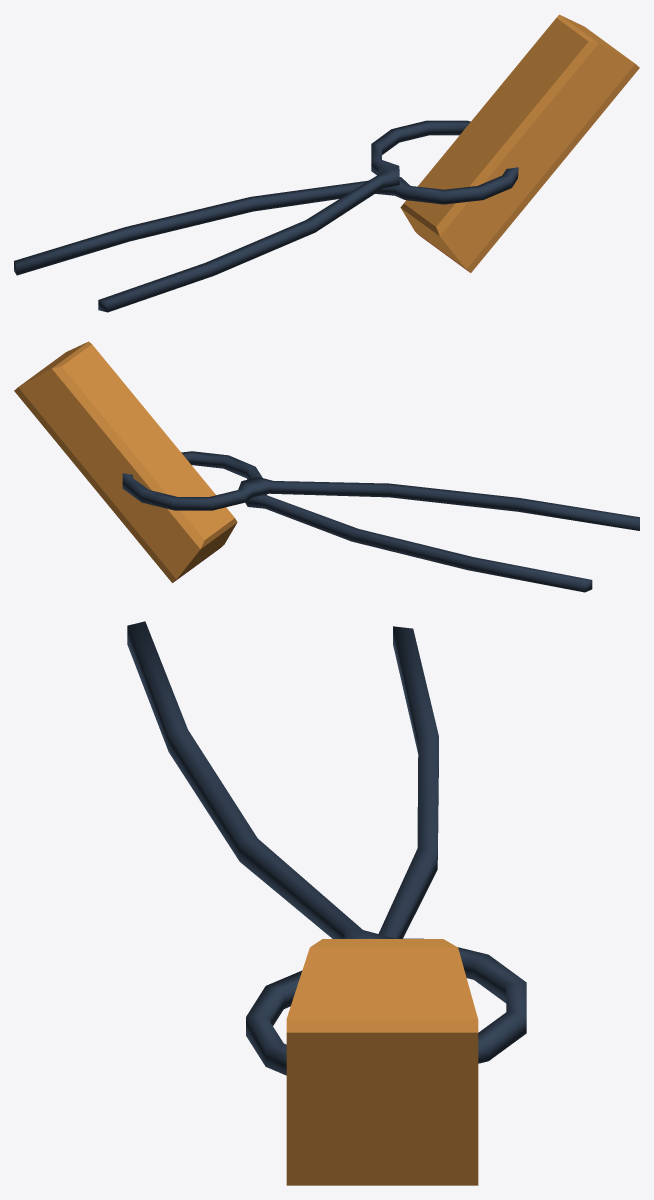
File: hotIronfbx.fbx
3 views of the same model, one above another, from view 1: azimuth 30°, elevation 25°; view 2: azimuth 150°, elevation 25°; view 3: azimuth 270°, elevation 25° (orthographic). The views are drawn at different scales.
Parts seen in each view (by area): view 1: ingot, pliers; view 2: ingot, pliers; view 3: ingot, pliers.
Boxes of the visible parts, left/top/right/bottom form: ingot: left=400, top=14, right=639, bottom=272; pliers: left=14, top=120, right=518, bottom=312; ingot: left=14, top=341, right=237, bottom=582; pliers: left=122, top=451, right=639, bottom=592; ingot: left=286, top=939, right=478, bottom=1185; pliers: left=127, top=621, right=526, bottom=1075.
Size of the model in its own units: 122 by 38.05 by 37.92.
